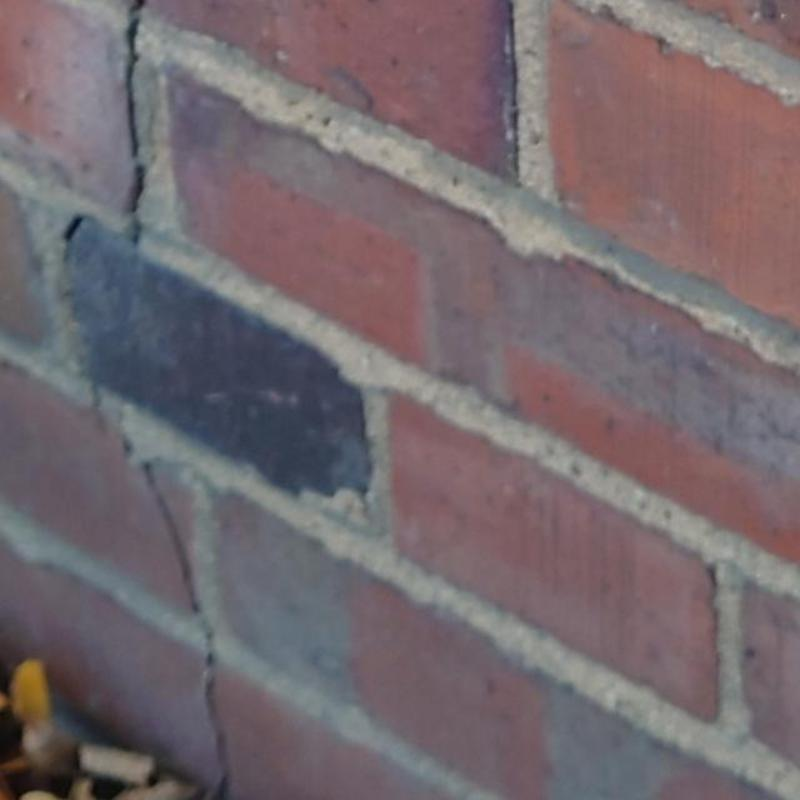pothole: (81, 381, 230, 800), (123, 0, 145, 242), (64, 216, 84, 242)
